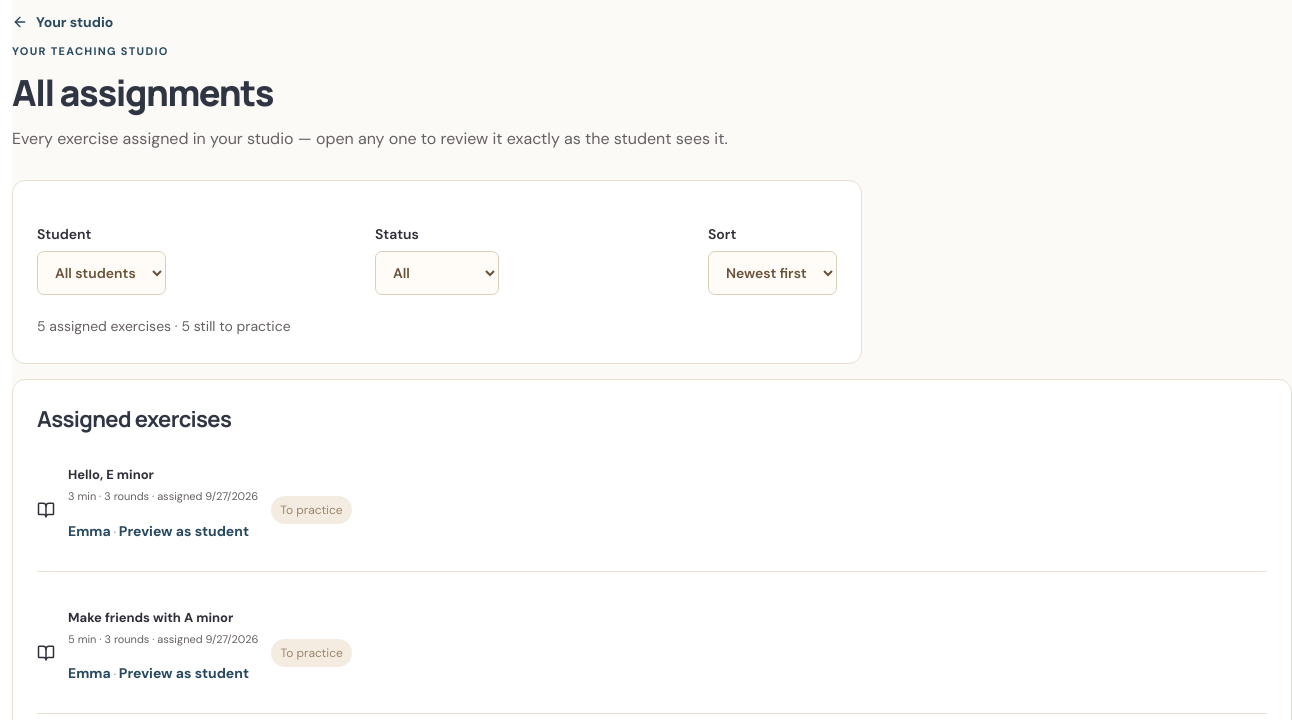
Test case: filters the overview by completion status
Select "Complete" in the dropdown labelled "Status": (437, 273) [375,251,499,295]
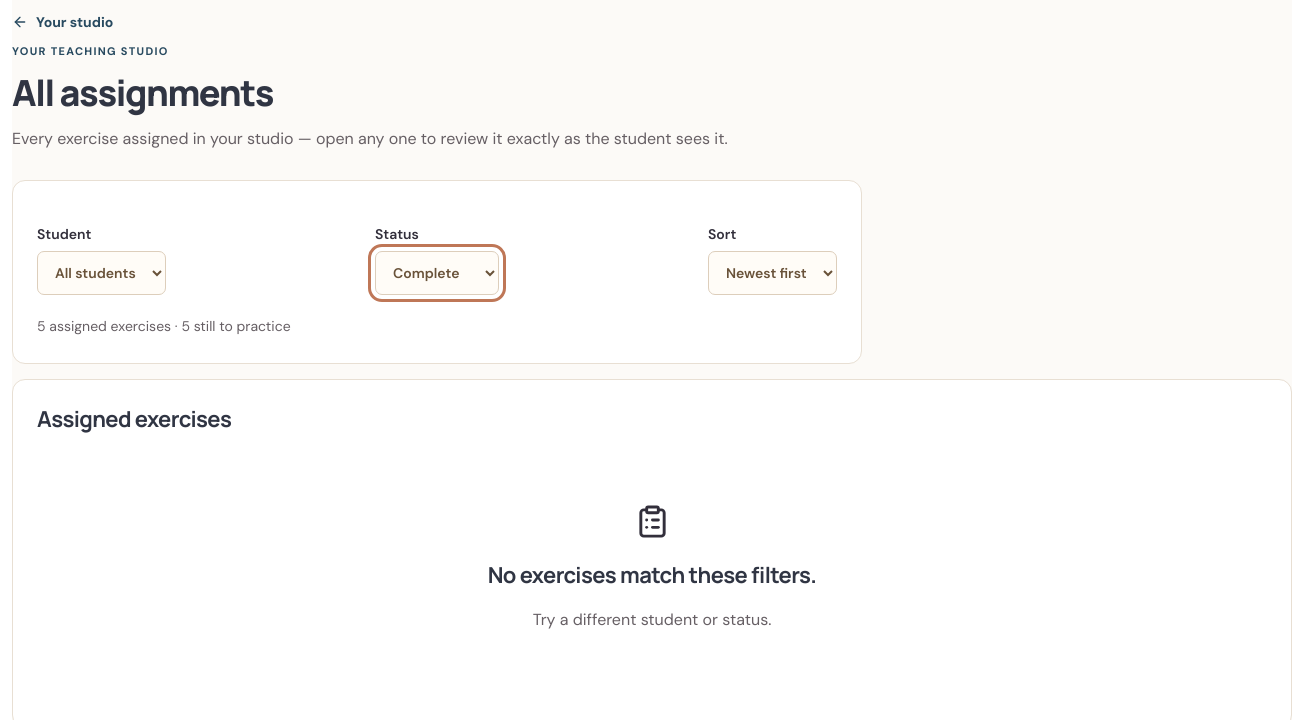
Expected: the heading "No exercises match these filters." is shown, [488,560,816,590]
Select "To practice" in the dropdown labelled "Status": (437, 273) [375,251,499,295]
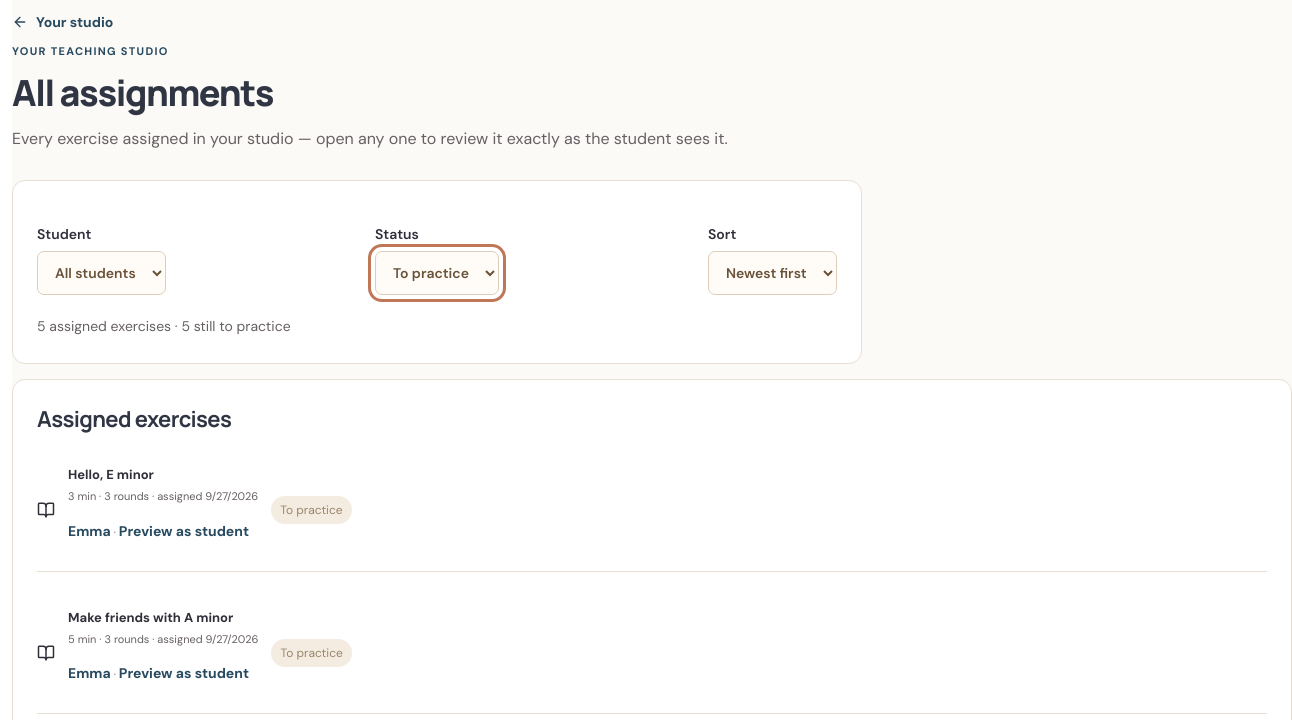
Expected: the text "Hello, E minor" is shown, [68,466,154,483]
